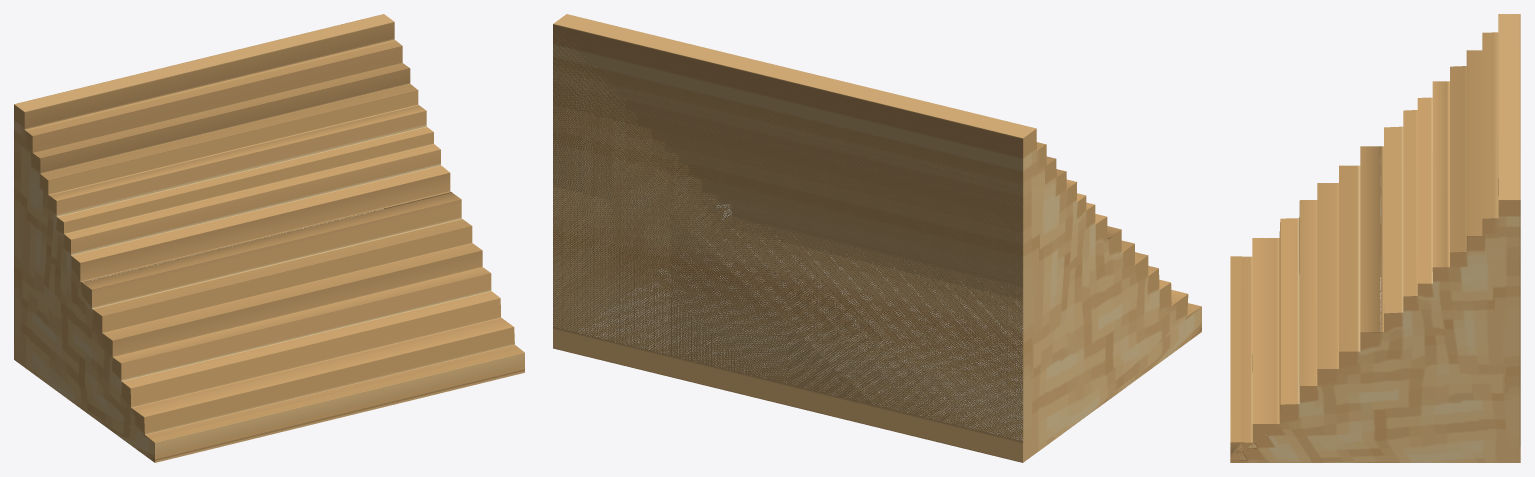
File: badlymodeledstaircaselol2.obj
3 views of the same model, side by side, from view 1: azimuth 30°, elevation 25°; view 2: azimuth 150°, elevation 25°; view 3: azimuth 270°, elevation 25° (orthographic). The views are drawn at different scales.
Visible parts, largest first — view 1: blenderstaircasecreator; view 2: blenderstaircasecreator; view 3: blenderstaircasecreator.
Boxes of the visible parts, box(x1,y1,x2,y2) form: blenderstaircasecreator: box(14, 14, 524, 462); blenderstaircasecreator: box(553, 14, 1201, 462); blenderstaircasecreator: box(1230, 14, 1520, 462).
Bounding box in the file's own units: 1.52 × 1 × 1.
